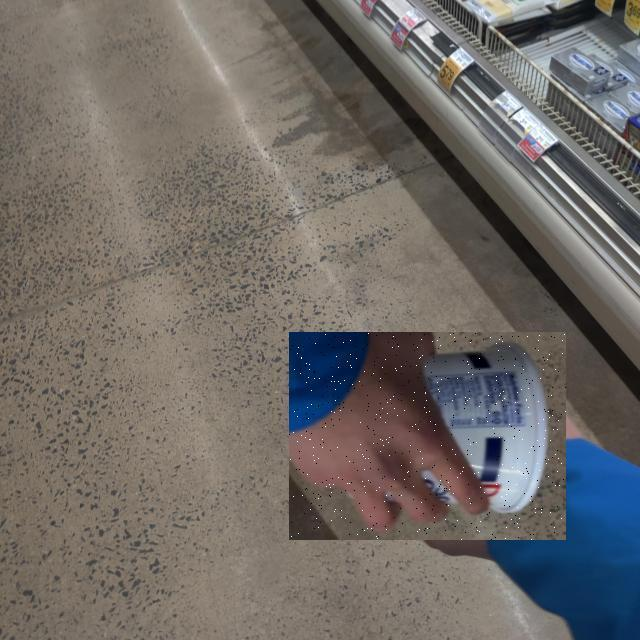Yoghurt: (289, 333, 566, 541)
